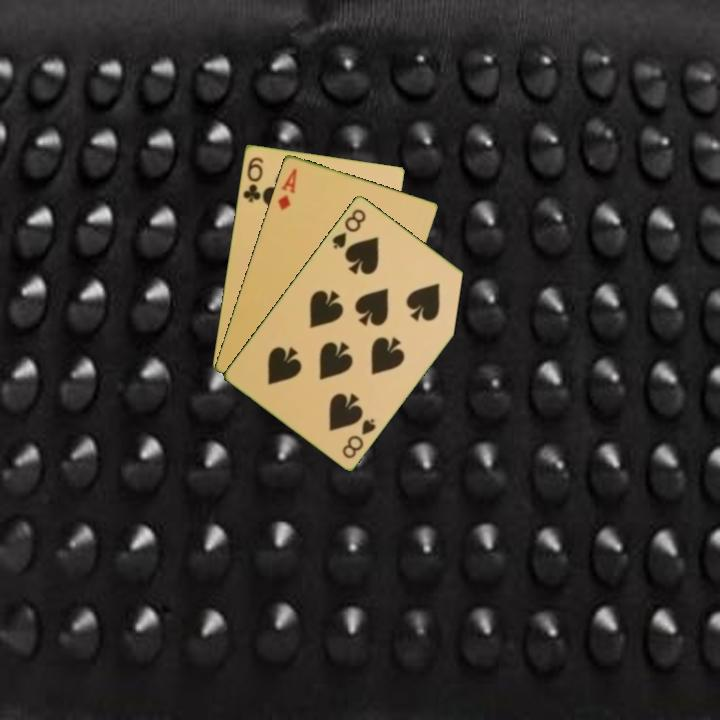6c: (239, 153, 266, 205)
8s: (328, 205, 369, 252), (339, 414, 379, 461)
Ad: (274, 164, 300, 213)
